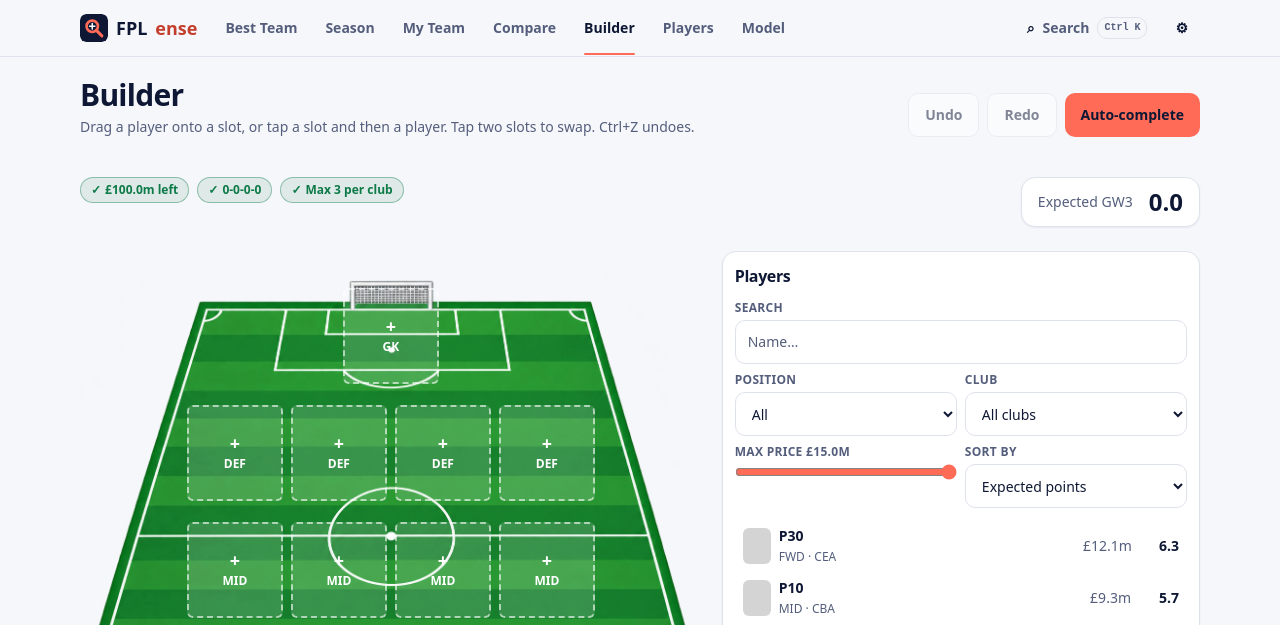
Builder › a 4th player from one club shows the club message
Select "Club A" in the dropdown labelled "Club": (1076, 414) [965,392,1187,436]
(page scrolled)
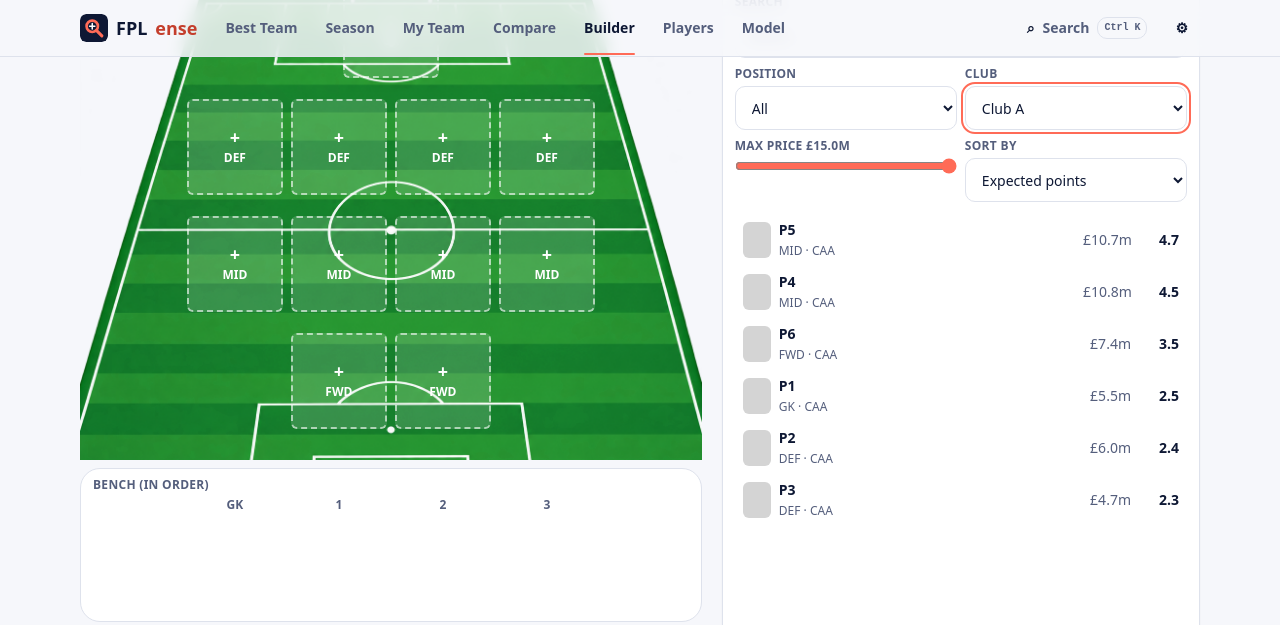
Click the button "P1 GK · CAA £5.5m 2.5": click(1111, 396) [735,370,1187,422]
(page scrolled)
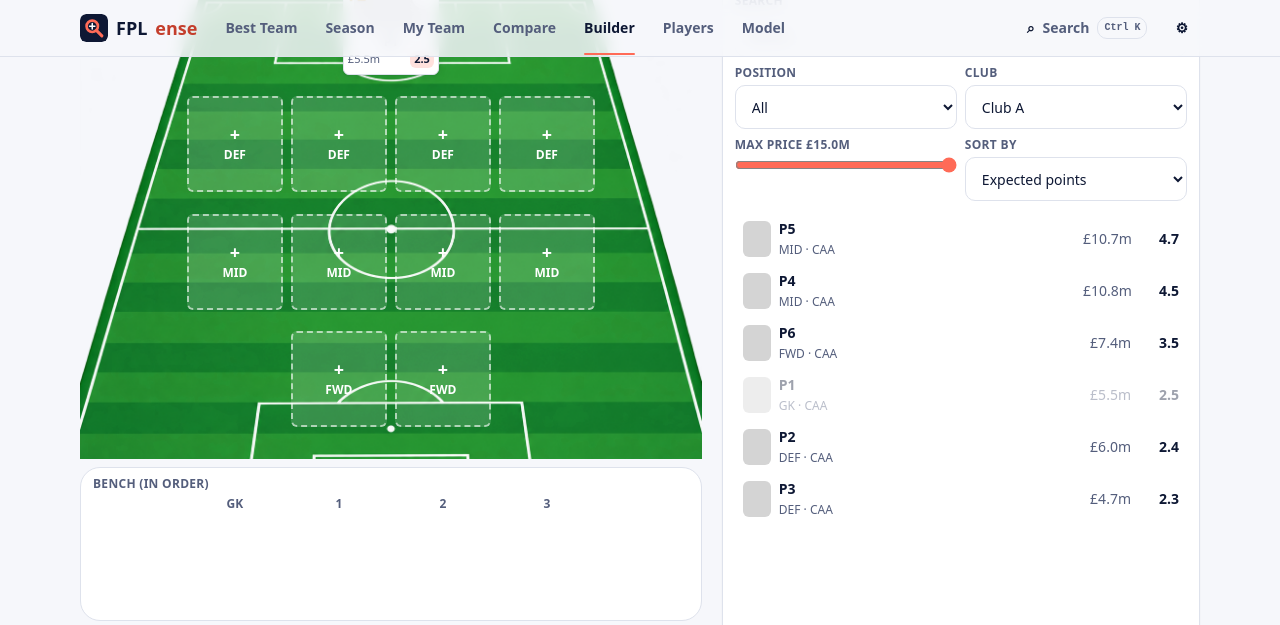
Click the button "P2 DEF · CAA £6.0m 2.4": click(1111, 446) [735,421,1187,473]
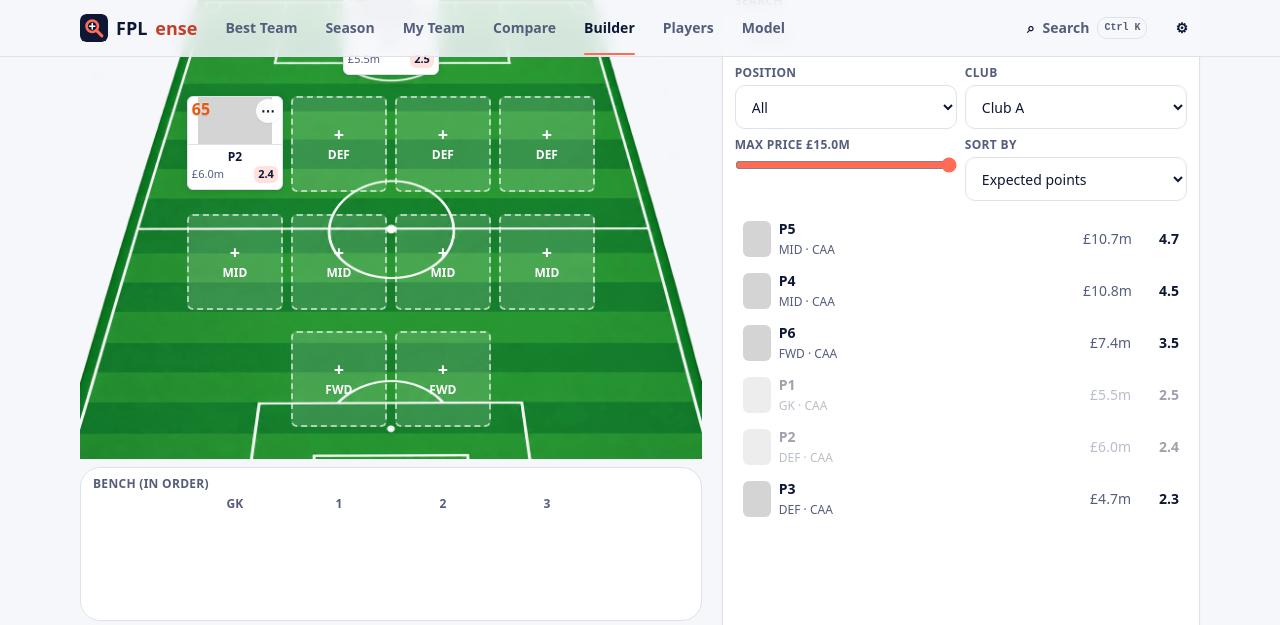
Click the button "P3 DEF · CAA £4.7m 2.3": click(1111, 498) [735,473,1187,525]
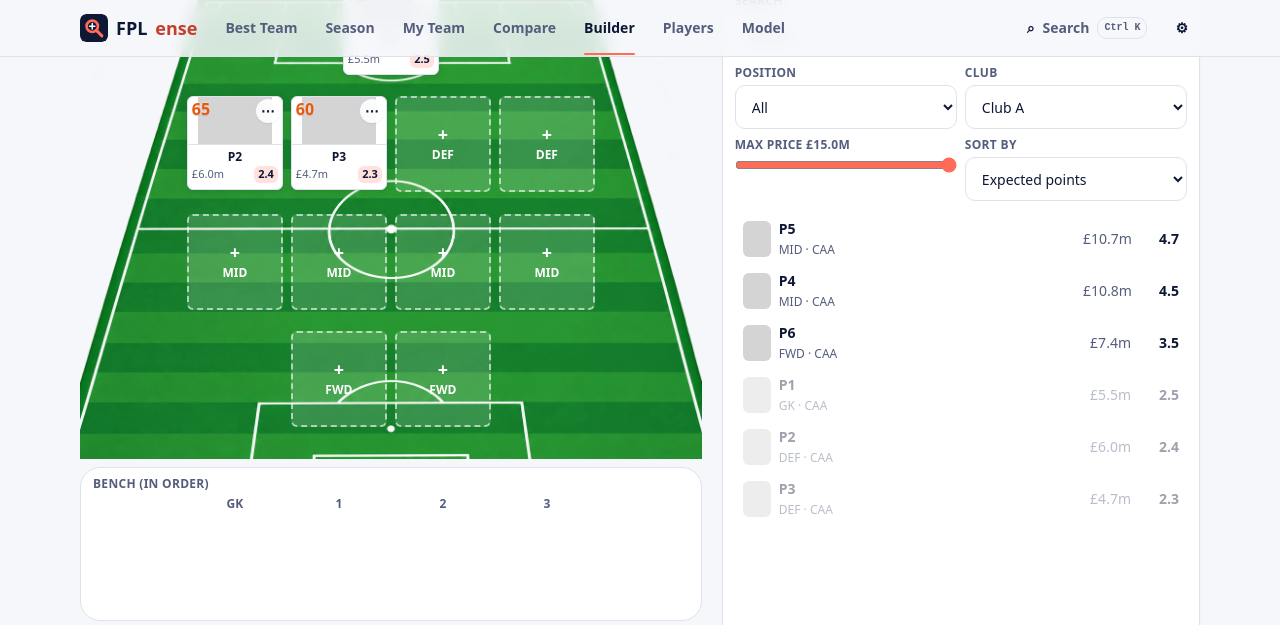
Click the button "P4 MID · CAA £10.8m 4.5": click(1107, 290) [735,265,1187,317]
(page scrolled)
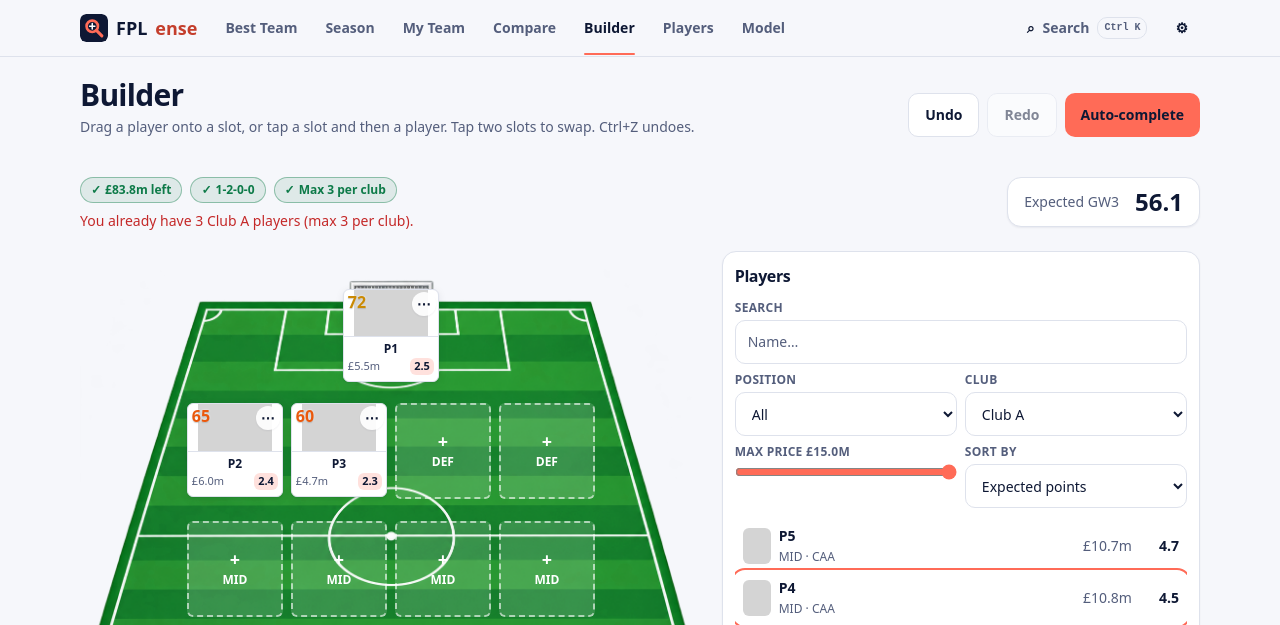
Now the text "You already have 3 Club A players (max 3 per club)." is shown, box [80,211,413,231]
